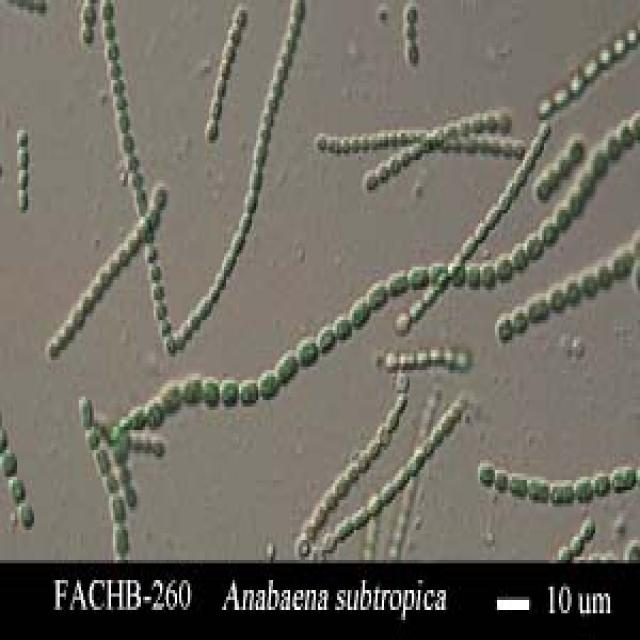Blue Green Algae: (612, 460, 638, 497), (550, 477, 576, 510), (297, 340, 322, 373), (158, 380, 181, 413), (277, 353, 299, 387), (258, 370, 282, 400), (388, 270, 412, 300), (92, 443, 111, 480), (576, 473, 595, 510), (367, 277, 388, 310), (109, 524, 132, 554), (184, 370, 202, 407), (406, 443, 424, 480), (200, 377, 220, 410), (109, 493, 128, 527), (239, 376, 260, 406), (316, 324, 337, 354), (527, 294, 548, 324), (79, 393, 96, 430), (220, 376, 239, 406), (145, 400, 162, 433), (220, 247, 241, 273), (529, 477, 550, 503), (228, 230, 248, 257), (484, 203, 504, 230), (582, 267, 598, 300), (197, 293, 216, 320), (350, 300, 369, 327), (2, 450, 19, 480), (17, 500, 34, 530), (542, 216, 559, 246), (512, 240, 529, 270), (495, 467, 510, 500), (497, 257, 516, 283), (232, 3, 250, 30), (548, 287, 566, 313), (17, 143, 34, 170), (337, 313, 354, 340), (527, 233, 544, 260), (102, 43, 121, 67), (290, 3, 309, 27), (465, 264, 480, 294), (497, 314, 512, 344), (606, 130, 621, 160), (563, 277, 580, 303), (11, 480, 30, 503), (152, 183, 170, 207), (442, 120, 463, 140), (568, 186, 582, 216), (394, 397, 410, 423), (244, 190, 262, 213), (390, 470, 408, 493), (94, 263, 111, 287), (252, 143, 269, 167), (510, 473, 527, 497), (478, 463, 493, 490), (333, 470, 348, 497), (429, 343, 444, 370), (256, 120, 273, 143), (409, 140, 426, 163), (409, 267, 426, 290), (365, 490, 382, 513), (350, 507, 367, 530), (399, 350, 416, 373), (497, 107, 512, 133), (512, 307, 527, 333), (593, 467, 608, 493), (416, 347, 431, 373), (248, 167, 264, 190), (362, 170, 378, 193), (104, 470, 120, 493), (111, 73, 126, 97), (145, 243, 160, 267), (384, 153, 399, 177), (482, 263, 497, 287), (461, 233, 476, 257), (17, 167, 32, 190), (83, 427, 98, 450), (98, 4, 115, 24), (205, 120, 222, 140), (115, 114, 132, 134), (237, 210, 254, 230), (150, 280, 167, 300), (17, 187, 30, 213), (386, 407, 399, 433), (442, 413, 454, 440), (220, 40, 234, 63), (150, 260, 164, 283), (312, 507, 326, 530), (102, 20, 118, 40), (122, 134, 138, 154), (326, 134, 342, 154), (504, 180, 520, 200), (378, 484, 394, 504), (228, 23, 241, 47), (405, 3, 418, 27), (271, 76, 286, 96), (484, 110, 499, 130), (397, 150, 412, 170), (529, 136, 544, 156), (322, 490, 337, 510), (367, 437, 380, 460), (216, 73, 228, 97), (470, 114, 484, 134), (376, 160, 390, 180), (538, 120, 552, 140), (164, 334, 177, 354), (431, 430, 444, 450), (209, 100, 224, 117), (128, 170, 143, 187), (15, 127, 30, 143), (218, 63, 232, 80), (152, 300, 166, 317), (264, 93, 280, 107), (108, 257, 122, 273), (341, 136, 352, 156), (403, 27, 416, 43), (126, 237, 139, 253), (512, 167, 525, 183), (350, 134, 360, 154), (134, 223, 145, 240), (358, 133, 369, 150), (117, 247, 130, 260)
